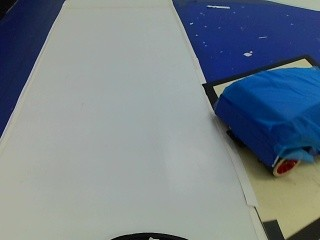car: (217, 58, 320, 181)
